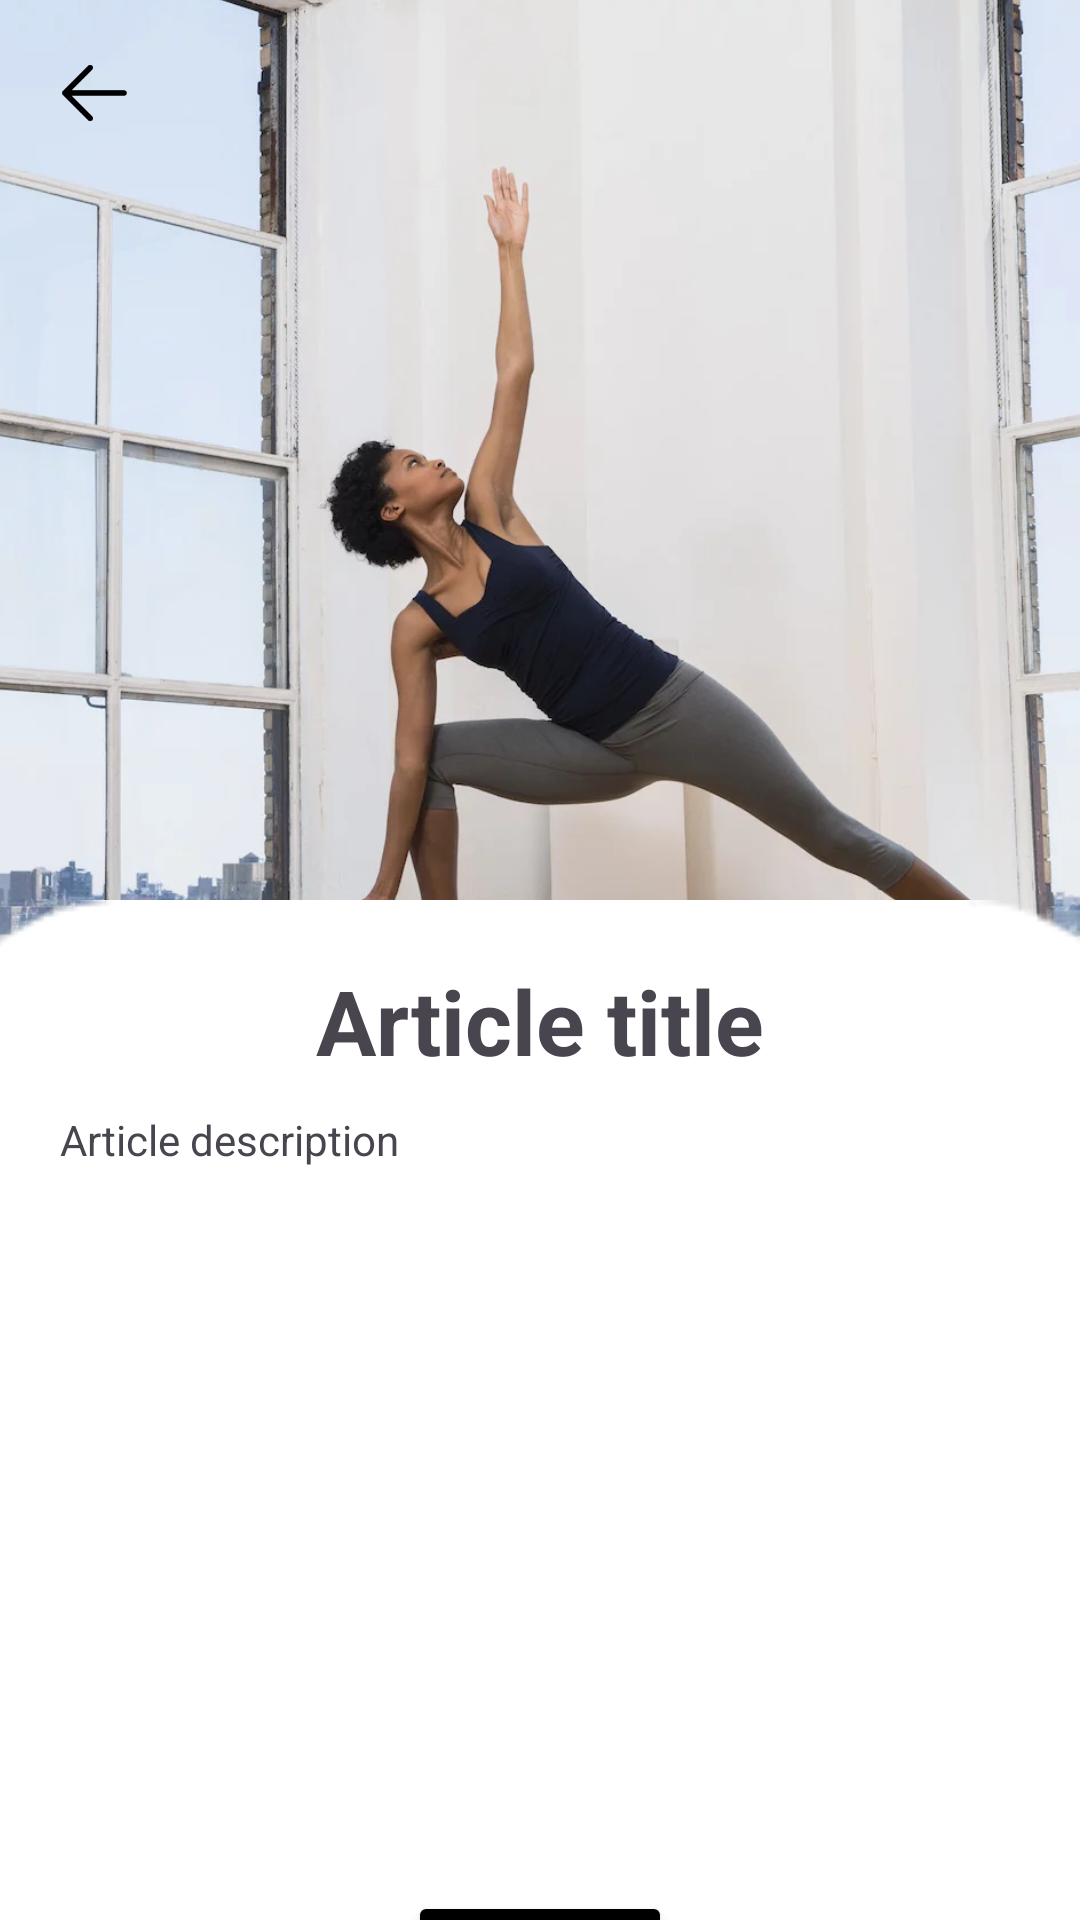

Screen size 1080x1920. Icon name, then its box in pixels as (x1, y1, x2, y2):
back: (62, 65, 127, 121)
